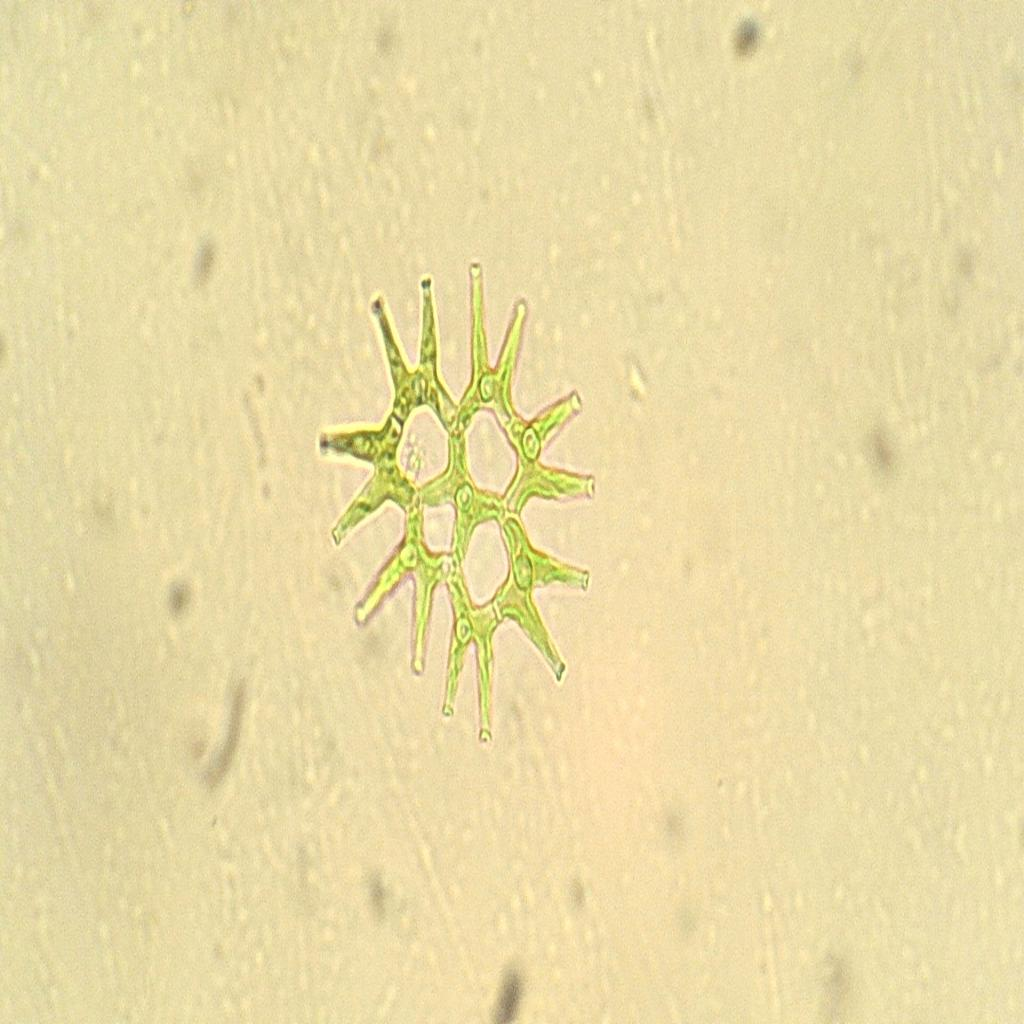Pediastrum_75T: (304, 229, 610, 779)
